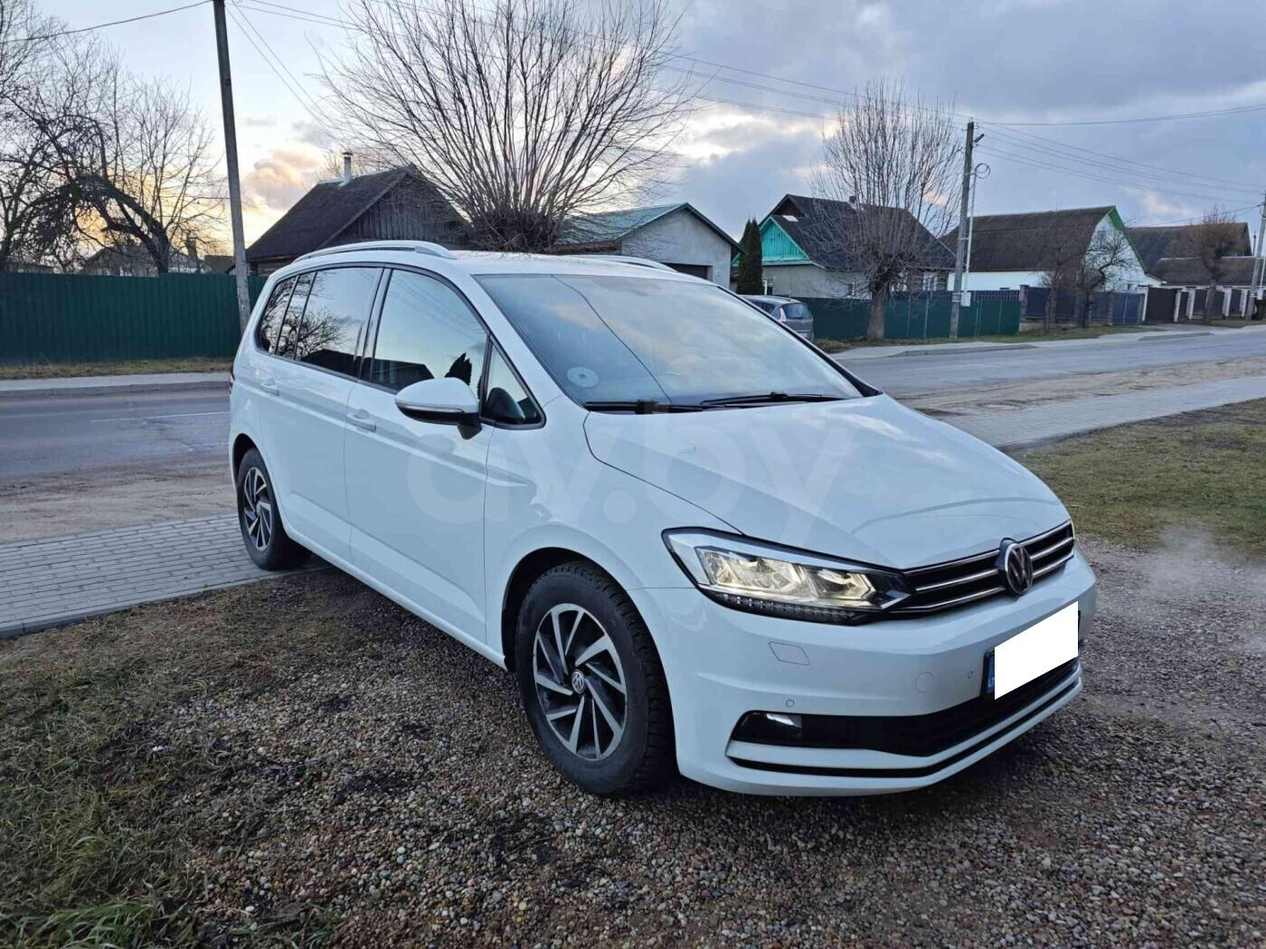Touran_2015: (225, 238, 1101, 811)
